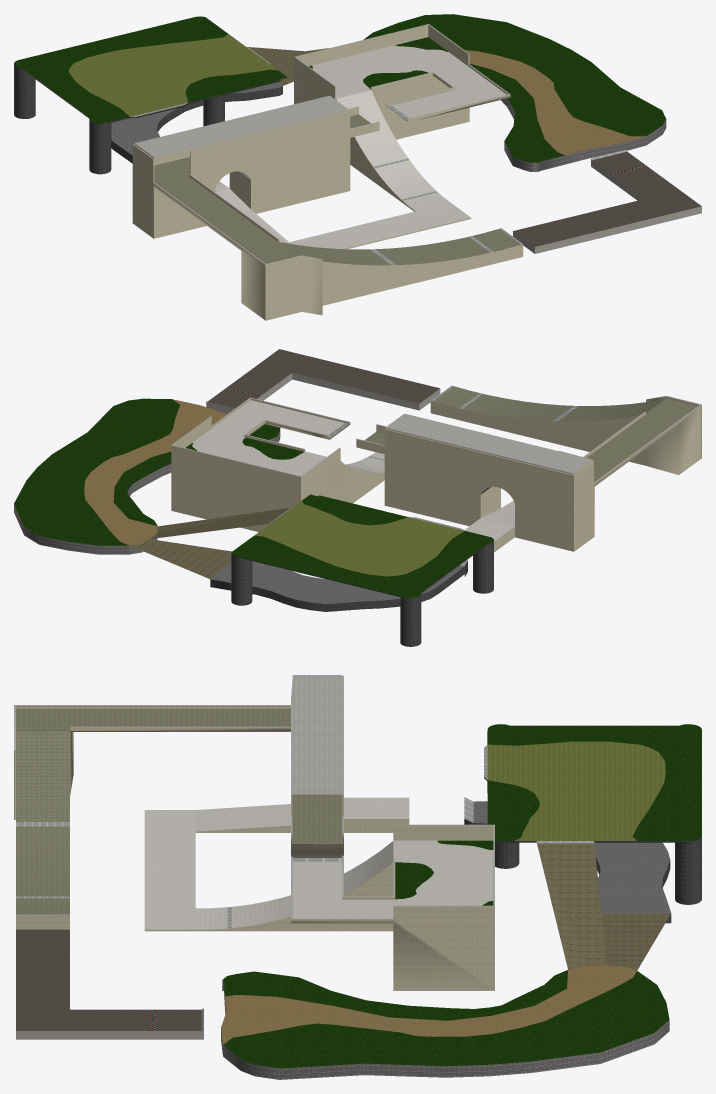
The picture shows the model from 3 angles, top to bottom: view 1: azimuth 30°, elevation 25°; view 2: azimuth 150°, elevation 25°; view 3: azimuth 270°, elevation 25°; orthographic projection. The views are drawn at different scales.
Visible parts, largest first — view 1: wall_6, grass.020, road_5, road_8, road_6, road_7, road_1, wall_road, road_2, wall_3, wall_1, wall_2.001 (+3 smaller); view 2: wall_6, grass.020, road_5, road_8, wall_3, wall_road, road_1, road_2, road_7, road_3_CULL, road_4, wall_2.001 (+3 smaller); view 3: grass.020, wall_6, road_8, road_5, road_6, road_2, road_7, road_3_CULL, wall_road, road_1, wall_2.001, road_4 (+3 smaller).
Part boxes in pixels (x1=…): wall_6: x1=132, y1=25, x2=523, y2=320; grass.020: x1=14, y1=14, x2=665, y2=162; road_5: x1=68, y1=34, x2=277, y2=116; road_8: x1=154, y1=114, x2=520, y2=265; road_6: x1=215, y1=90, x2=470, y2=248; road_7: x1=312, y1=45, x2=506, y2=118; road_1: x1=513, y1=151, x2=701, y2=246; wall_road: x1=133, y1=24, x2=510, y2=264; road_2: x1=465, y1=50, x2=645, y2=155; wall_3: x1=14, y1=64, x2=287, y2=174; wall_1: x1=513, y1=159, x2=701, y2=253; wall_2.001: x1=501, y1=98, x2=666, y2=171; wall_6: x1=171, y1=396, x2=701, y2=552; grass.020: x1=14, y1=398, x2=493, y2=597; road_5: x1=254, y1=501, x2=464, y2=576; road_8: x1=364, y1=386, x2=697, y2=481; wall_3: x1=210, y1=541, x2=493, y2=646; wall_road: x1=171, y1=396, x2=701, y2=494; road_1: x1=208, y1=349, x2=439, y2=408; road_2: x1=84, y1=399, x2=227, y2=545; road_7: x1=192, y1=400, x2=344, y2=475; road_3_CULL: x1=130, y1=507, x2=289, y2=578; road_4: x1=210, y1=561, x2=464, y2=604; wall_2.001: x1=14, y1=429, x2=280, y2=554; grass.020: x1=223, y1=724, x2=701, y2=1068; wall_6: x1=14, y1=696, x2=494, y2=990; road_8: x1=16, y1=709, x2=342, y2=914; road_5: x1=487, y1=741, x2=665, y2=840; road_6: x1=144, y1=797, x2=409, y2=929; road_2: x1=221, y1=965, x2=636, y2=1044; road_7: x1=293, y1=840, x2=493, y2=918; road_3_CULL: x1=536, y1=841, x2=670, y2=970; wall_road: x1=14, y1=675, x2=494, y2=919; road_1: x1=16, y1=929, x2=201, y2=1030; wall_2.001: x1=221, y1=979, x2=669, y2=1079; road_4: x1=473, y1=801, x2=670, y2=913.
Bounding box in the file's own units: 63980 × 10829 × 60875.
Materials: 16 (16 with a texture image).
